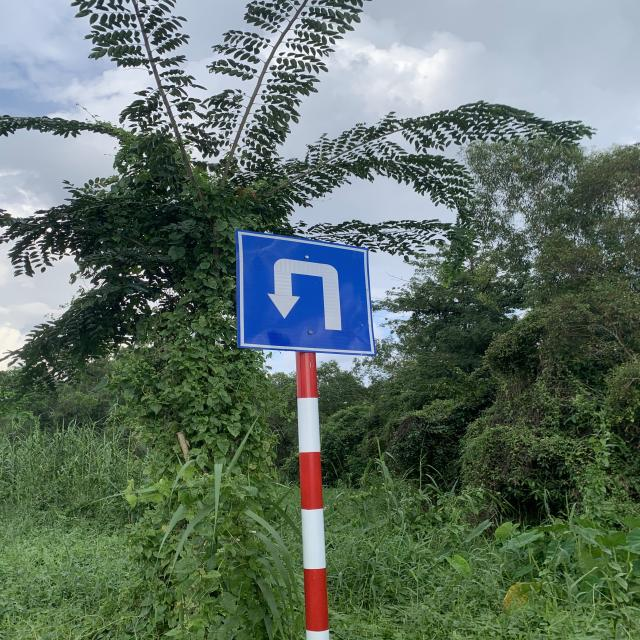Den_Giao_Thong: (237, 232, 373, 354)
